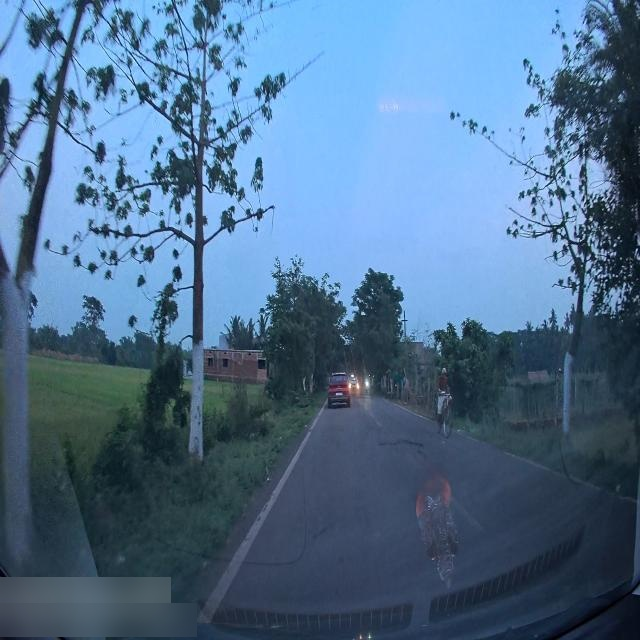pothole: (379, 439, 421, 453)
